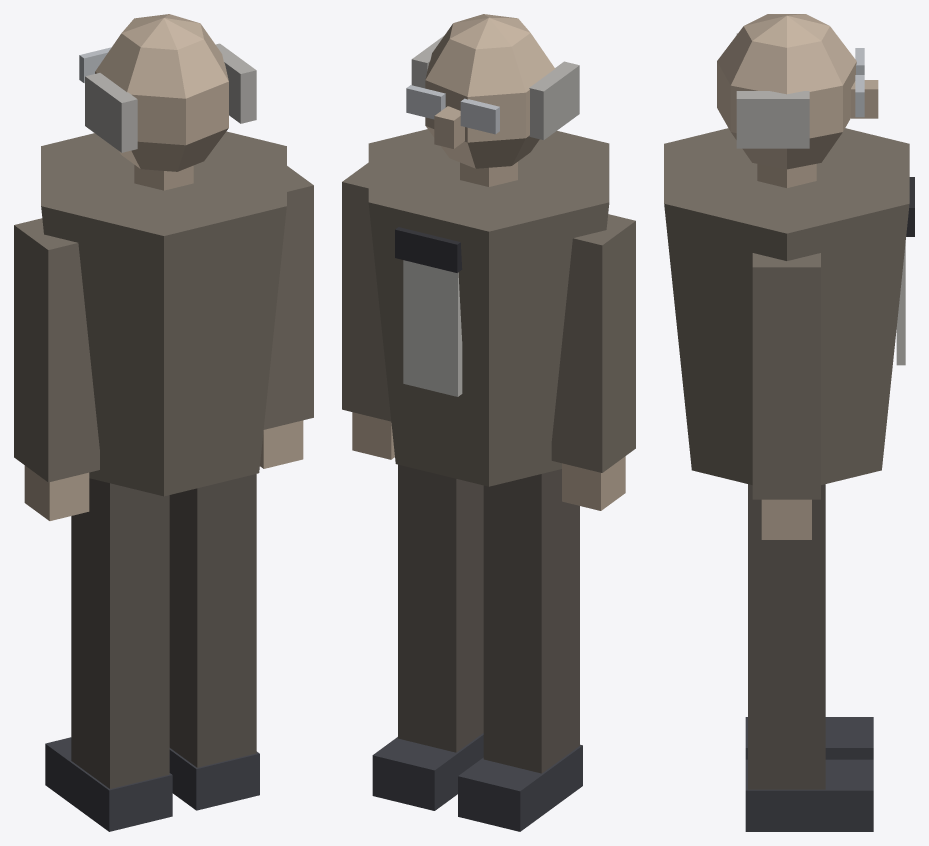
The model's file is personaje_hilario.glb.
3 renders of one model, left to right at view 1: azimuth 30°, elevation 25°; view 2: azimuth 150°, elevation 25°; view 3: azimuth 270°, elevation 25°, orthographic. The views are drawn at different scales.
Parts seen in each view (by area): view 1: Hilario_Torso, Hilario_PiernaIzq, Hilario_PiernaDer, Hilario_Cabeza, Hilario_BrazoIzq, Hilario_BrazoDer; view 2: Hilario_Torso, Hilario_PiernaIzq, Hilario_PiernaDer, Hilario_BrazoIzq, Hilario_Cabeza, Hilario_BrazoDer; view 3: Hilario_Torso, Hilario_PiernaDer, Hilario_Cabeza, Hilario_BrazoDer, Hilario_PiernaIzq.
Boxes of the visible parts, x1,y1,x2,y2 form: Hilario_Torso: (41, 131, 286, 496); Hilario_PiernaIzq: (45, 478, 172, 831); Hilario_PiernaDer: (169, 474, 259, 810); Hilario_Cabeza: (79, 14, 256, 190); Hilario_BrazoIzq: (14, 218, 99, 520); Hilario_BrazoDer: (260, 166, 313, 468); Hilario_Torso: (368, 129, 609, 486); Hilario_PiernaIzq: (458, 469, 582, 831); Hilario_PiernaDer: (372, 464, 483, 810); Hilario_BrazoIzq: (551, 214, 635, 510); Hilario_Cabeza: (406, 14, 579, 186); Hilario_BrazoDer: (342, 162, 394, 459); Hilario_Torso: (664, 128, 914, 484); Hilario_PiernaDer: (745, 484, 873, 831); Hilario_Cabeza: (717, 14, 878, 187); Hilario_BrazoDer: (752, 253, 820, 539); Hilario_PiernaIzq: (745, 717, 873, 759).
Size of the model in its own units: 0.67 by 1.88 by 0.5485.
